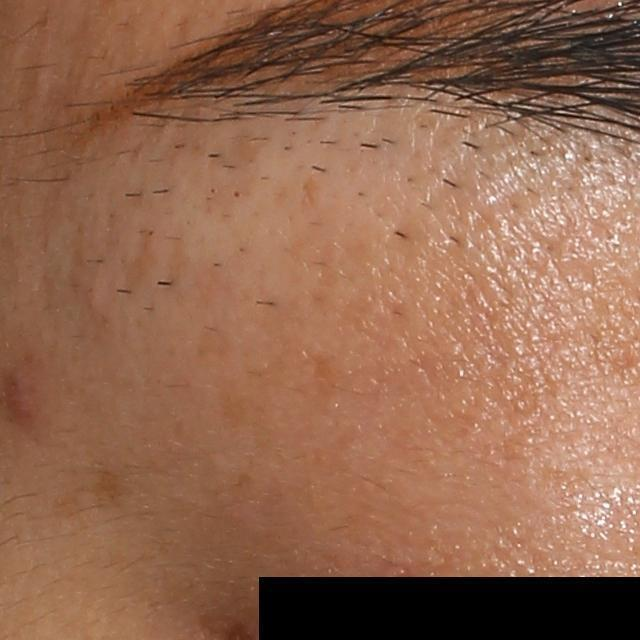melasma: (50, 465, 137, 529)
papule: (3, 367, 40, 424)
